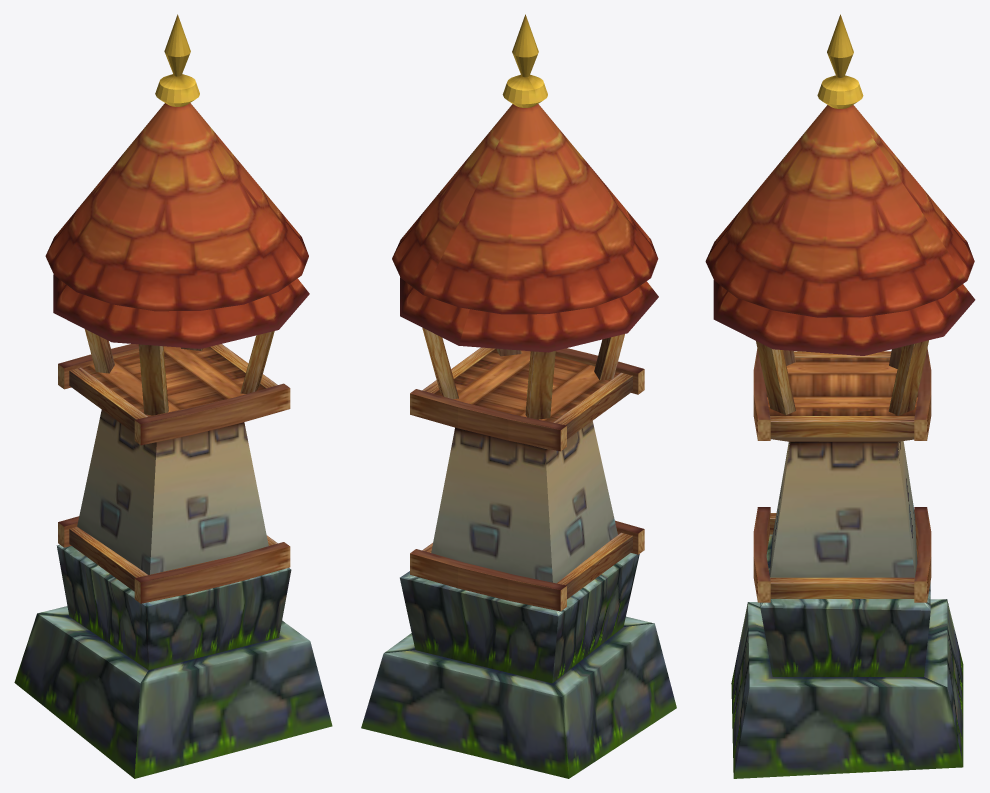
3 views of the same model, side by side, from view 1: azimuth 30°, elevation 25°; view 2: azimuth 150°, elevation 25°; view 3: azimuth 270°, elevation 25° (orthographic). The views are drawn at different scales.
Parts seen in each view (by area): view 1: Object002; view 2: Object002; view 3: Object002.
Boxes of the visible parts, x1=… form: Object002: x1=14, y1=14, x2=332, y2=778; Object002: x1=361, y1=14, x2=676, y2=778; Object002: x1=705, y1=14, x2=975, y2=778.
Bounding box in the file's own units: 33.99 × 101 × 34.51.
